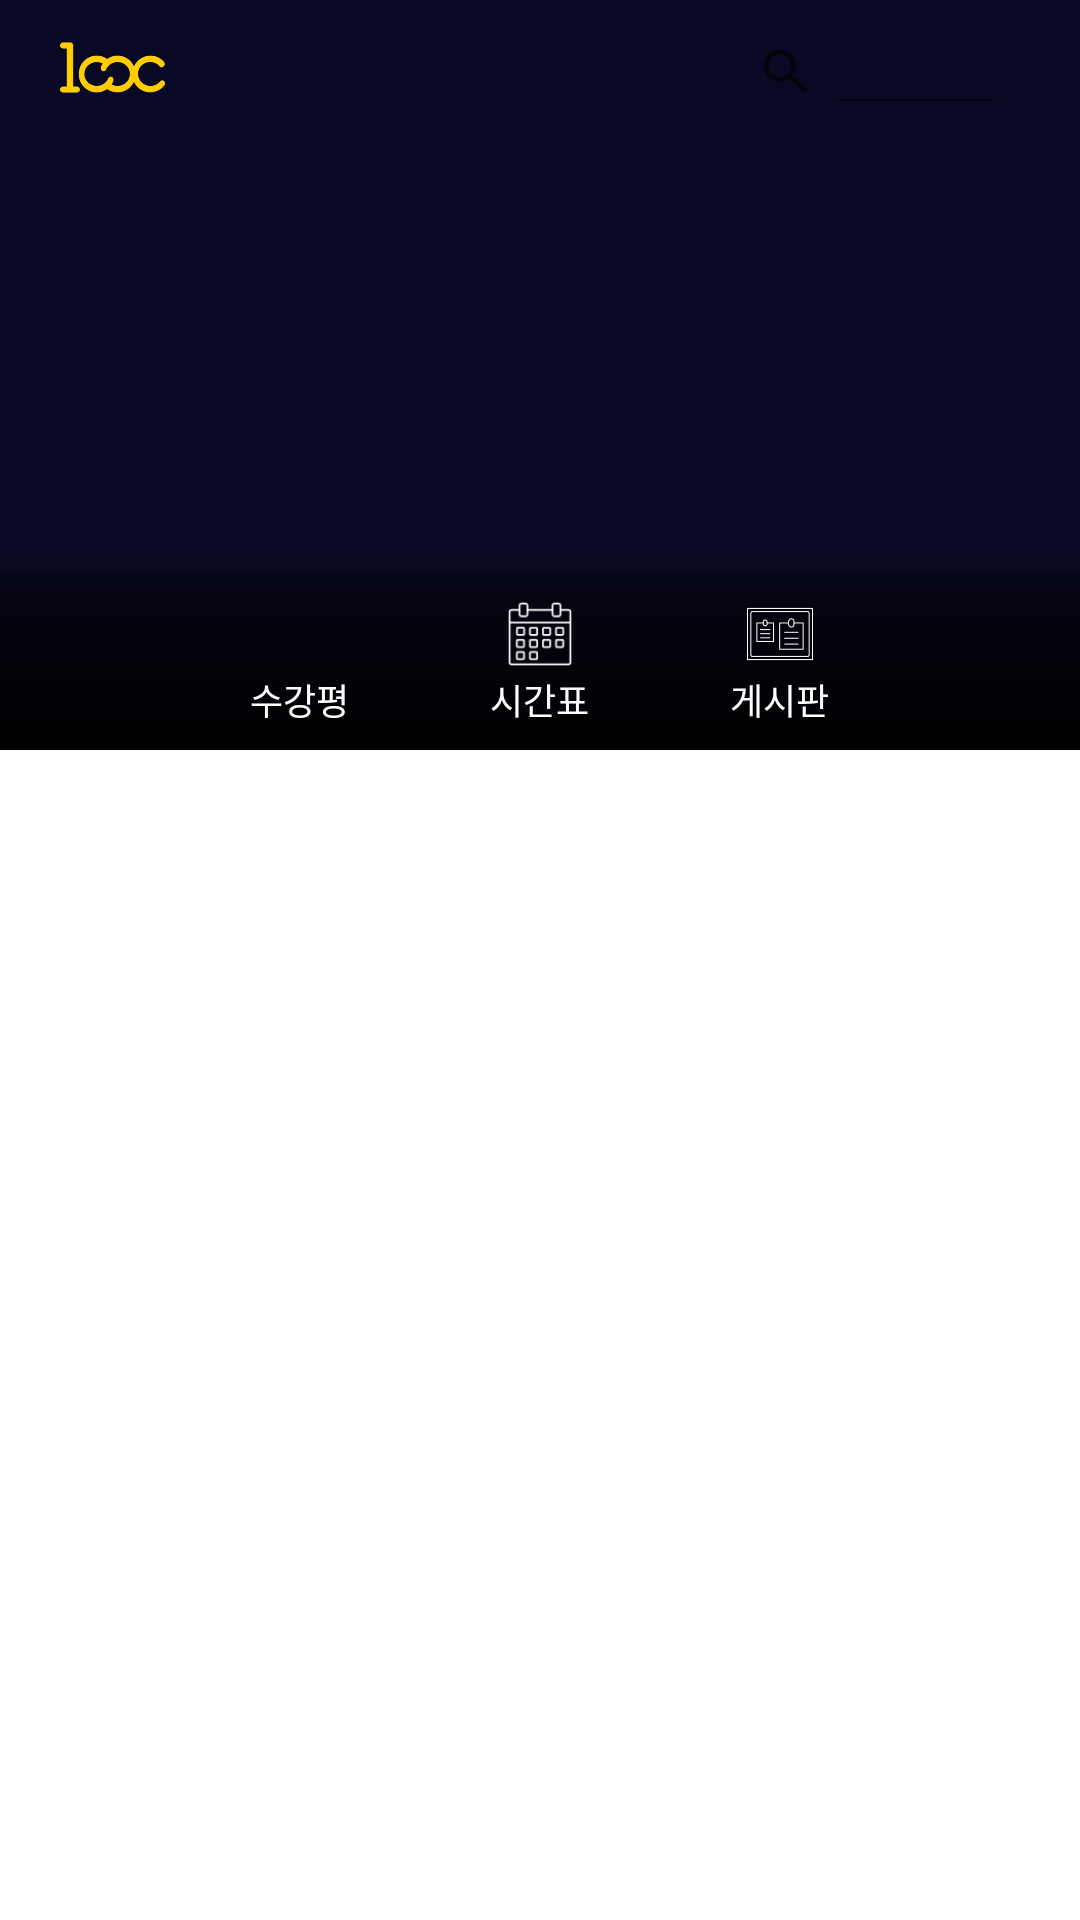

Icons on this 1080w x 1920h Android screen, each with its box as [left=x1, top=y1, right=x2, bottom=y2]:
calender: [left=508, top=602, right=572, bottom=666]
